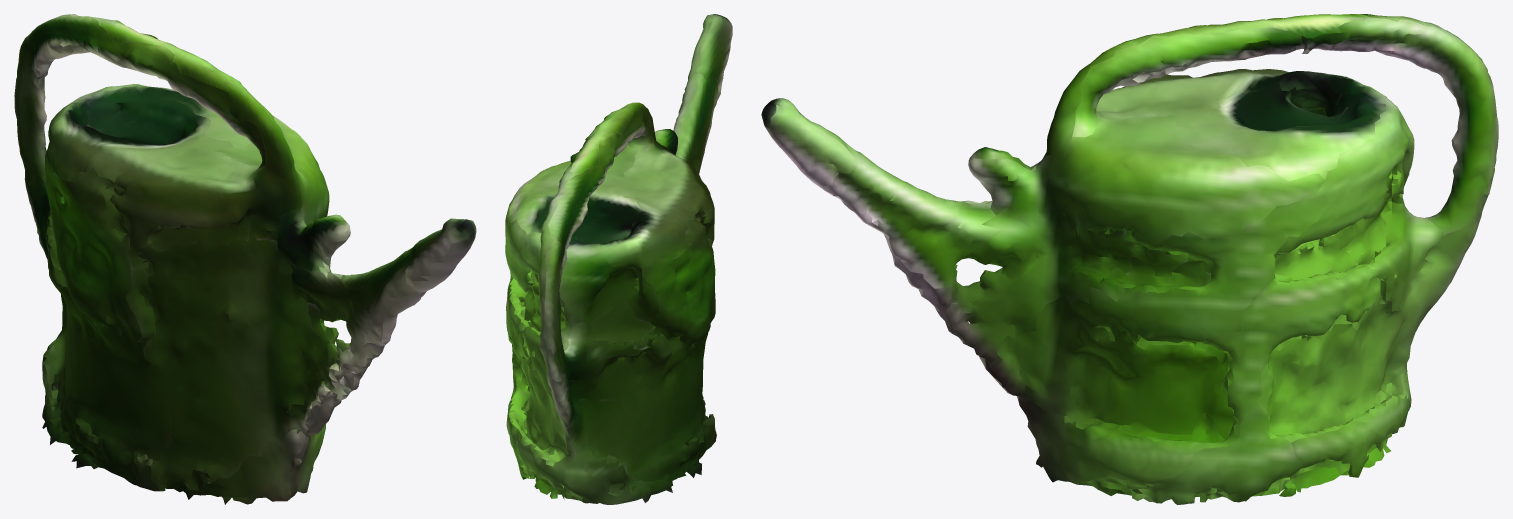
File: waterkan.fbx
The picture shows the model from 3 angles, left to right: view 1: azimuth 30°, elevation 25°; view 2: azimuth 150°, elevation 25°; view 3: azimuth 270°, elevation 25°; orthographic projection. The views are drawn at different scales.
Visible parts, largest first — view 1: meshes_0_; view 2: meshes_0_; view 3: meshes_0_.
Part boxes in pixels (x1,y1,x2,y2): meshes_0_: [14, 14, 476, 504]; meshes_0_: [505, 14, 732, 504]; meshes_0_: [761, 14, 1498, 504].
Size of the model in its own units: 0.2129 by 0.3664 by 0.5581.
1 material, 1 textured.
